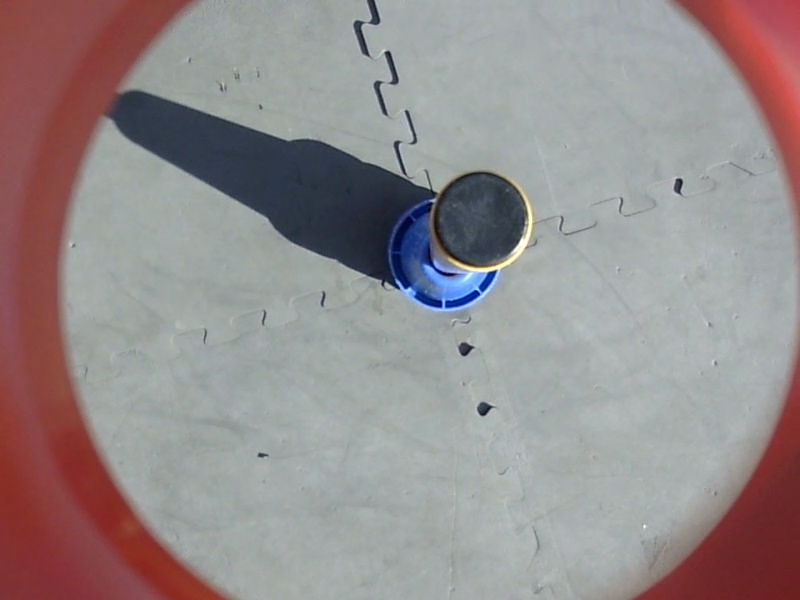tip: (422, 162, 541, 278)
